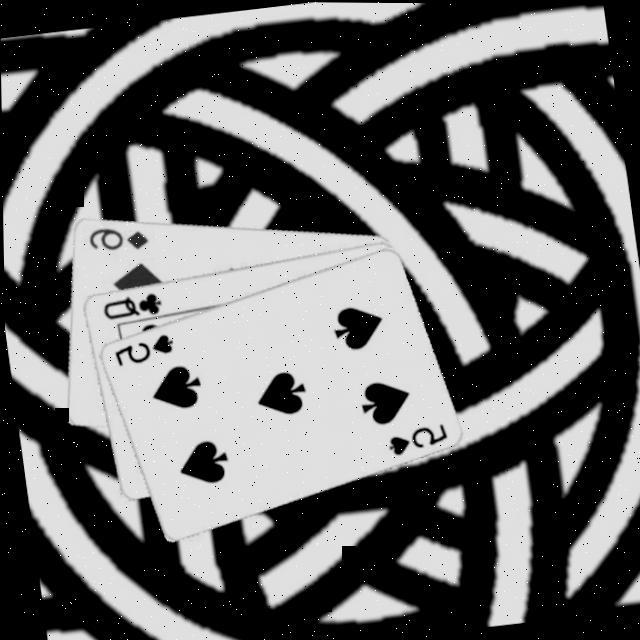5S: (381, 416, 450, 456), (108, 326, 176, 366)
6D: (82, 217, 150, 256)
QC: (98, 284, 164, 320)
